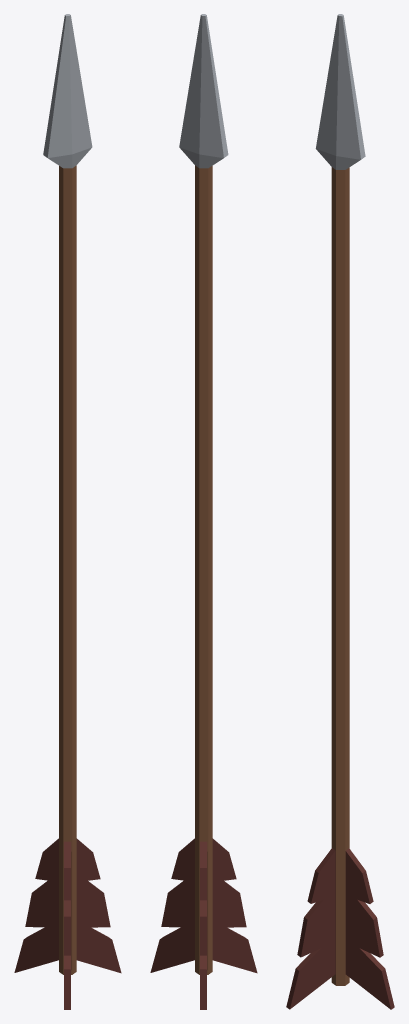
Rendered from SM_Arrow_02.fbx.
3 views of the same model, side by side, from view 1: azimuth 30°, elevation 25°; view 2: azimuth 150°, elevation 25°; view 3: azimuth 330°, elevation 25° (orthographic).
Visible parts, largest first — view 1: SM_Arrow_02; view 2: SM_Arrow_02; view 3: SM_Arrow_02.
Boxes of the visible parts, x1,y1,x2,y2 form: SM_Arrow_02: (14,14,121,1009); SM_Arrow_02: (150,14,257,1009); SM_Arrow_02: (286,14,394,1009).
Size of the model in its own units: 12.69 by 146 by 14.6.
